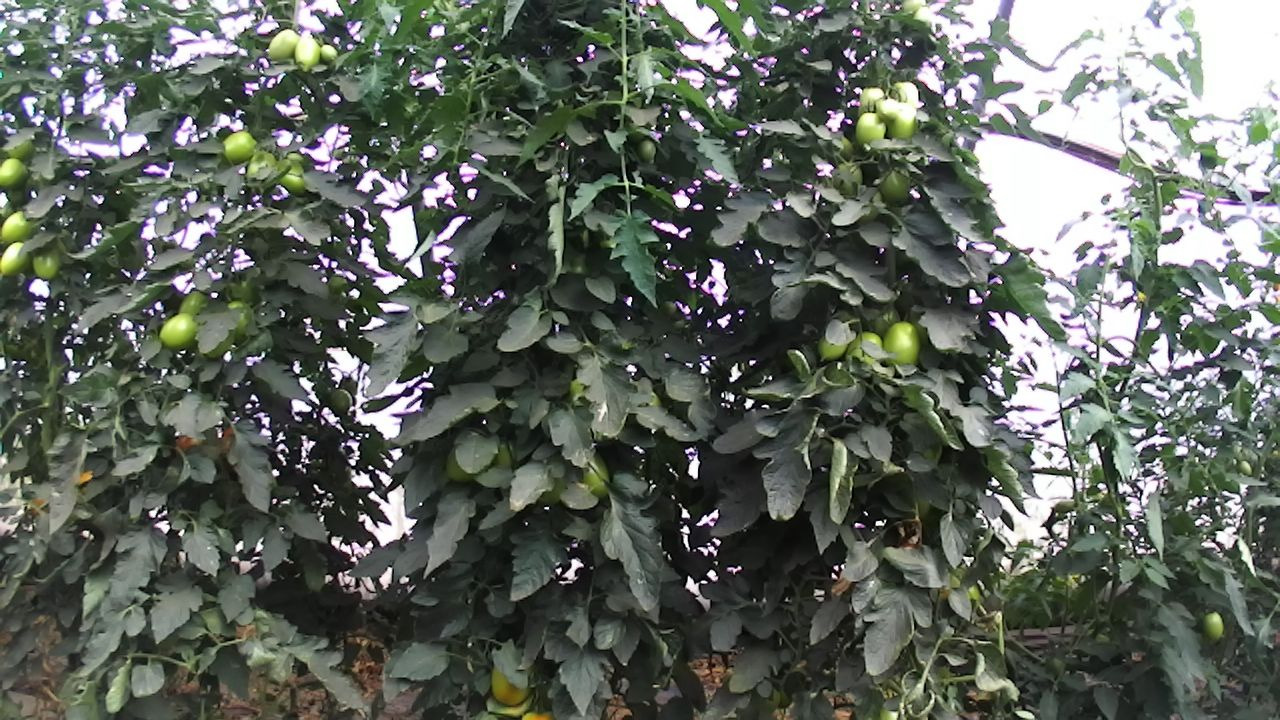tomato: (879, 318, 922, 370), (490, 660, 534, 708), (157, 315, 200, 349), (0, 210, 38, 246), (221, 130, 261, 164), (853, 110, 888, 148), (886, 99, 917, 141), (0, 238, 31, 279), (878, 168, 912, 203), (292, 33, 321, 74), (815, 333, 851, 364), (266, 28, 299, 61), (31, 244, 61, 279), (0, 155, 29, 191), (1199, 609, 1225, 645), (179, 289, 209, 316), (875, 97, 901, 123), (636, 138, 657, 162), (318, 42, 338, 63)
